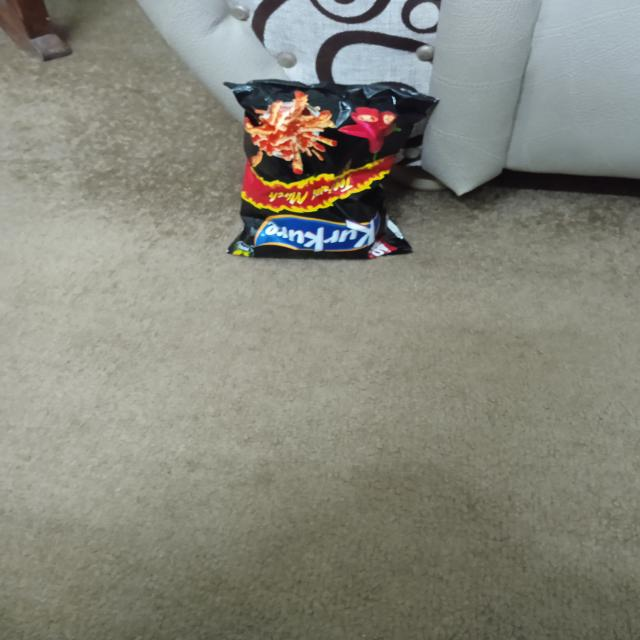Plastic: (224, 72, 444, 266)
